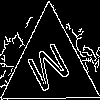M: (24, 41, 77, 100)
